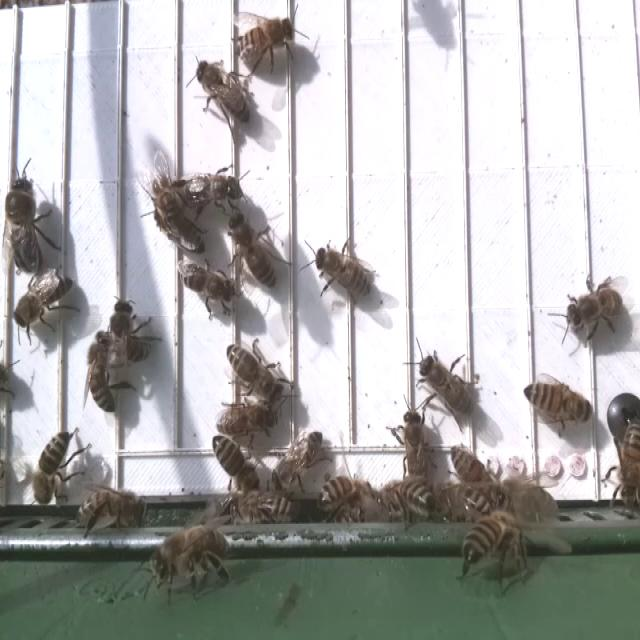Drone: (4, 171, 45, 278)
Worker: (226, 208, 281, 292), (194, 58, 254, 131), (270, 426, 328, 495), (417, 351, 474, 421), (520, 375, 594, 428), (10, 272, 76, 328), (312, 244, 372, 304), (225, 339, 282, 401), (560, 288, 630, 334), (33, 427, 73, 507), (210, 432, 260, 494), (83, 331, 118, 416), (234, 15, 297, 62), (178, 259, 238, 307), (179, 169, 245, 212), (401, 407, 433, 491), (215, 401, 285, 438), (618, 421, 640, 503)
